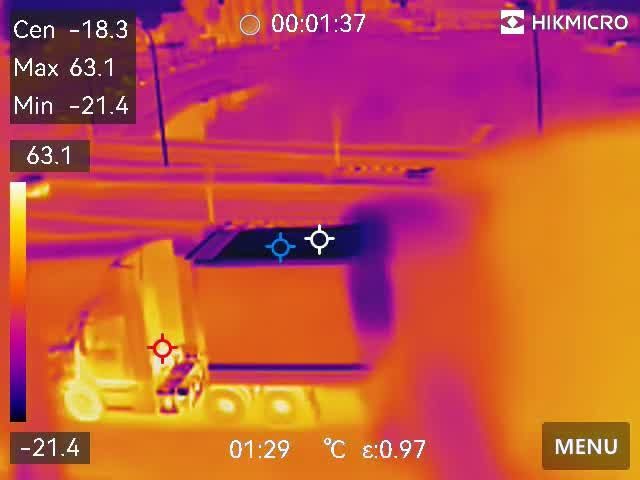heavyTruck: (41, 221, 385, 423)
